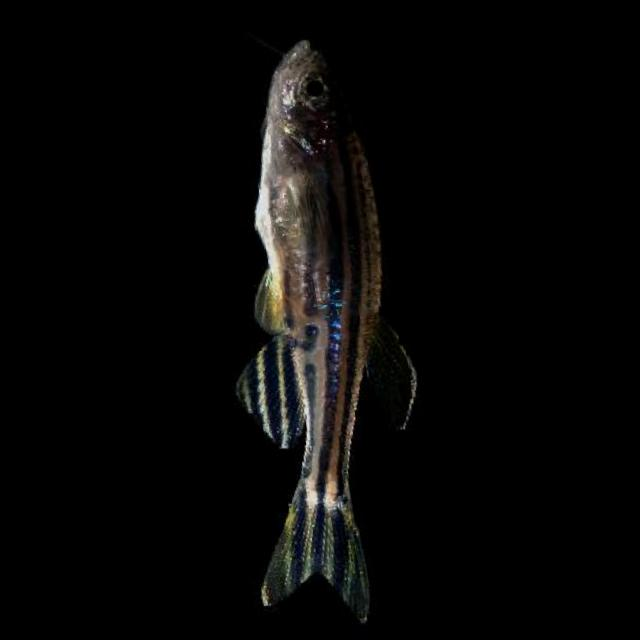ZebraFish: (174, 24, 453, 636)
